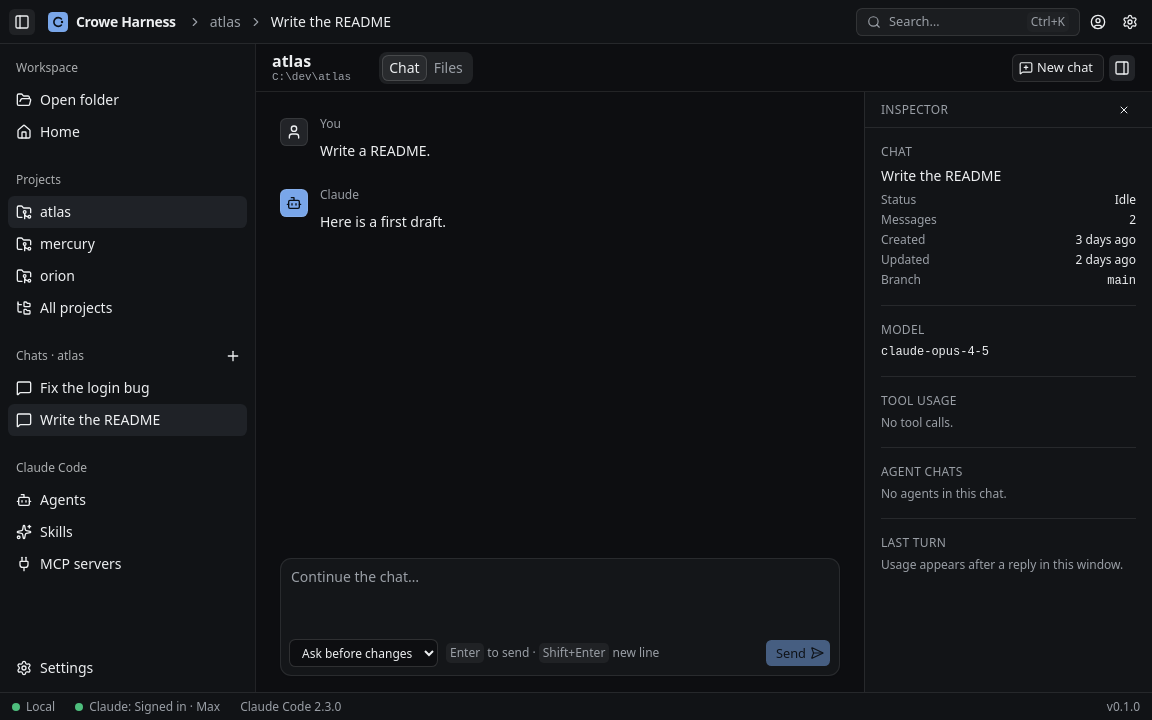
Test: FilesView › previews a file with line numbers
Click the tab "Files": coordinates (448, 68) [427,54,470,80]
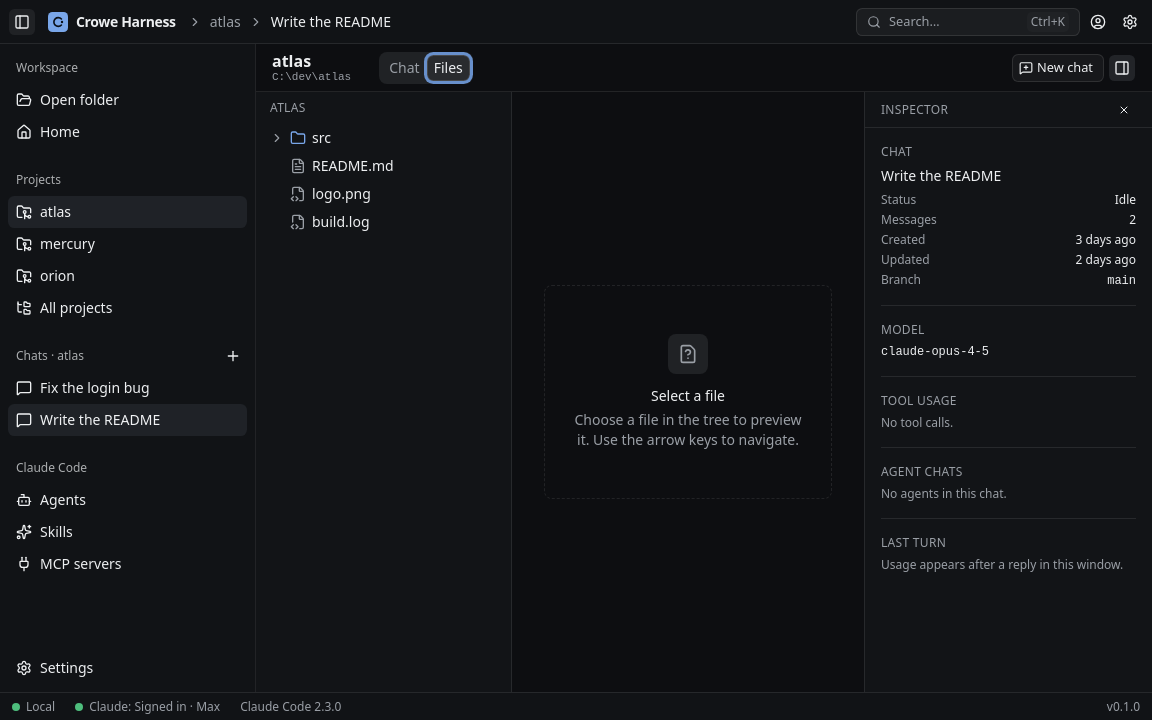
Click the list item "README.md": coordinates (342, 166) [290,156,394,175]
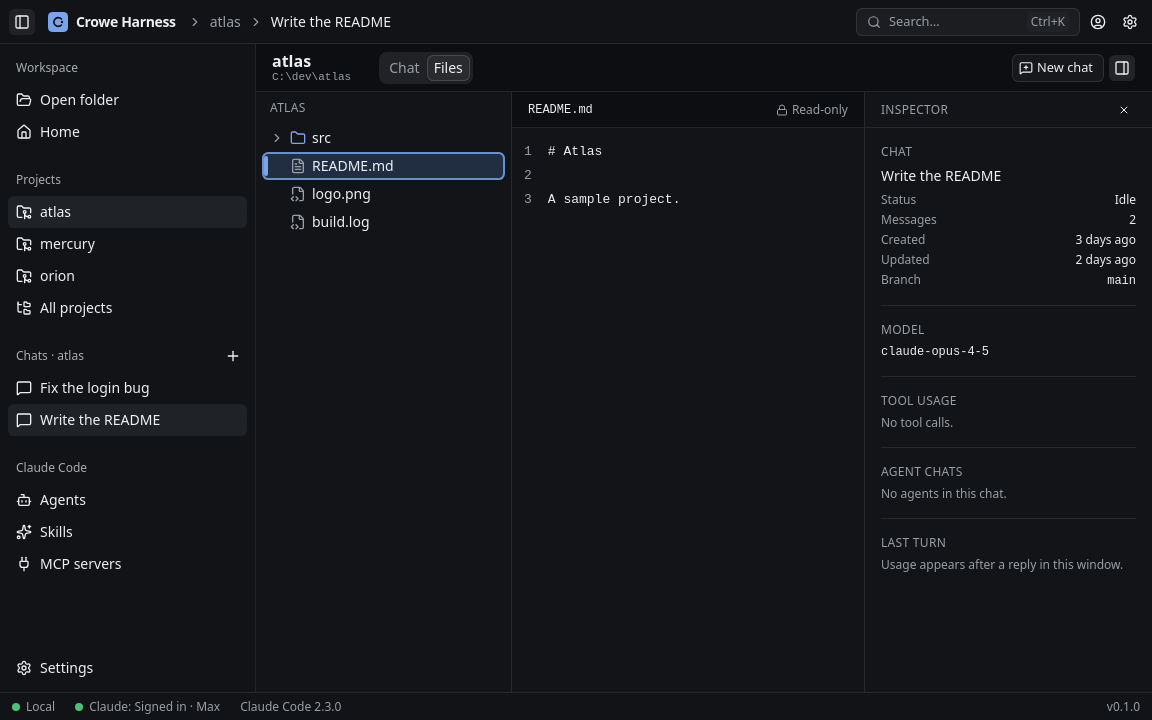
expect the element named "File content" shows "# Atlas": met, box [548,144,680,207]
expect the element named "File content" shows "A sample project.": met, box [548,144,680,207]
expect the element named "File content" reads "1 2 3 # Atlas A sample project.": met, box [524,144,532,207]
